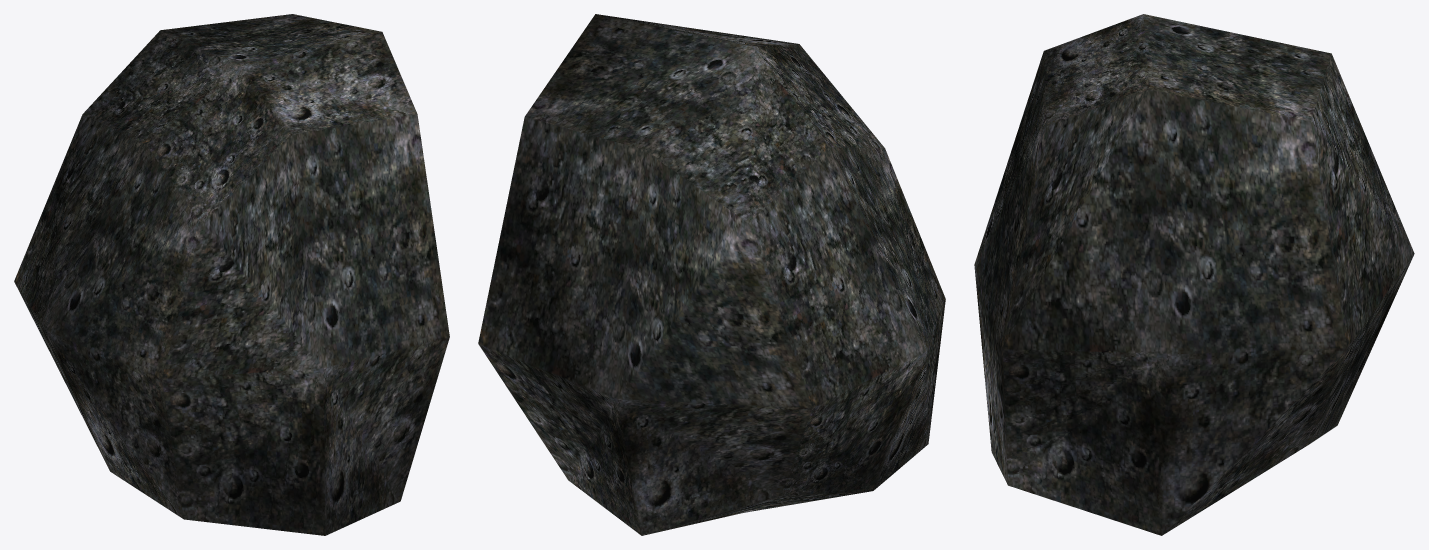
Rendered from asteroid_iron_medium_s03_l2.fbx.
3 renders of one model, left to right at view 1: azimuth 30°, elevation 25°; view 2: azimuth 150°, elevation 25°; view 3: azimuth 270°, elevation 25°, orthographic. The views are drawn at different scales.
Parts seen in each view (by area): view 1: mesh_node; view 2: mesh_node; view 3: mesh_node.
Part boxes in pixels (x1,y1,x2,y2): mesh_node: [14, 14, 449, 535]; mesh_node: [478, 14, 945, 535]; mesh_node: [974, 14, 1414, 535].
Bounding box in the file's own units: 42.95 × 51.39 × 44.08.
